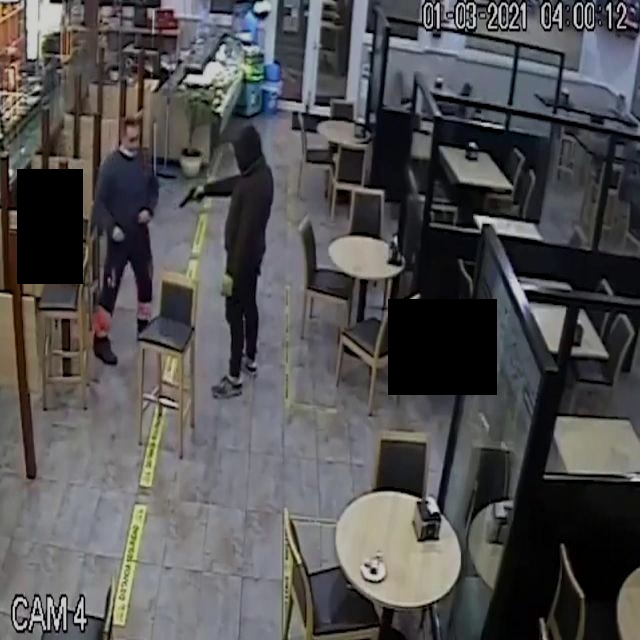gun: (168, 177, 211, 220)
